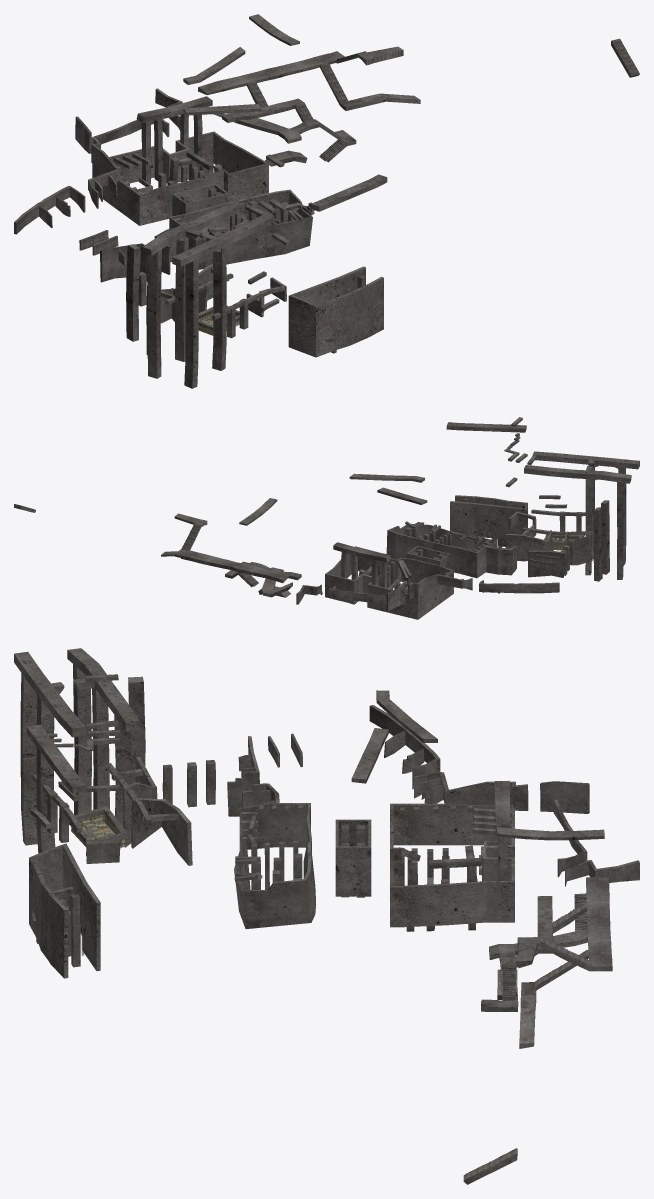
The model's file is SM_Scene_A_Blockout08.fbx.
The picture shows the model from 3 angles, top to bottom: view 1: azimuth 30°, elevation 25°; view 2: azimuth 150°, elevation 25°; view 3: azimuth 270°, elevation 25°; orthographic projection. The views are drawn at different scales.
Visible parts, largest first — view 1: SM_Scene_A_Blockout08, SM_Scene_A_Blockout08.002, SM_Scene_A_Blockout08.001; view 2: SM_Scene_A_Blockout08, SM_Scene_A_Blockout08.002, SM_Scene_A_Blockout08.001; view 3: SM_Scene_A_Blockout08, SM_Scene_A_Blockout08.002, SM_Scene_A_Blockout08.001.
Part boxes in pixels (left/top/right/bottom): SM_Scene_A_Blockout08: left=14, top=47, right=312, bottom=282; SM_Scene_A_Blockout08.002: left=126, top=154, right=387, bottom=388; SM_Scene_A_Blockout08.001: left=198, top=14, right=639, bottom=166; SM_Scene_A_Blockout08: left=296, top=473, right=564, bottom=619; SM_Scene_A_Blockout08.002: left=446, top=417, right=639, bottom=581; SM_Scene_A_Blockout08.001: left=14, top=498, right=301, bottom=597; SM_Scene_A_Blockout08: left=227, top=690, right=639, bottom=931; SM_Scene_A_Blockout08.002: left=14, top=648, right=215, bottom=978; SM_Scene_A_Blockout08.001: left=463, top=827, right=612, bottom=1184.
Size of the model in its own units: 34487 by 9212 by 21410.
